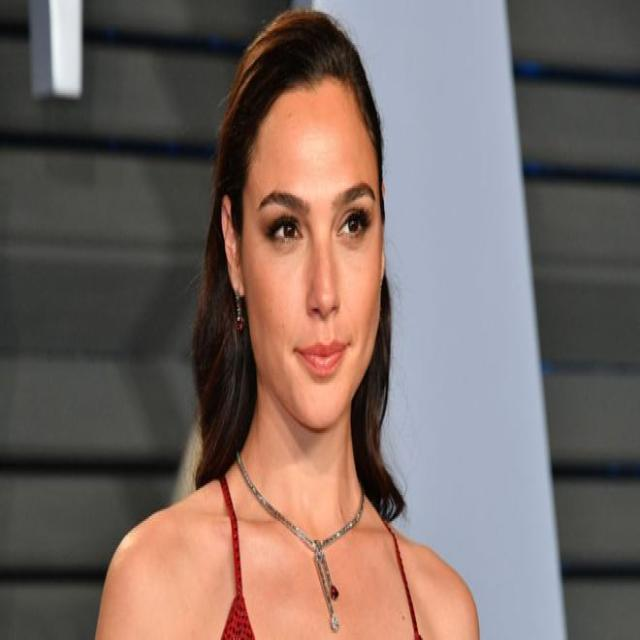human: (89, 4, 487, 640)
